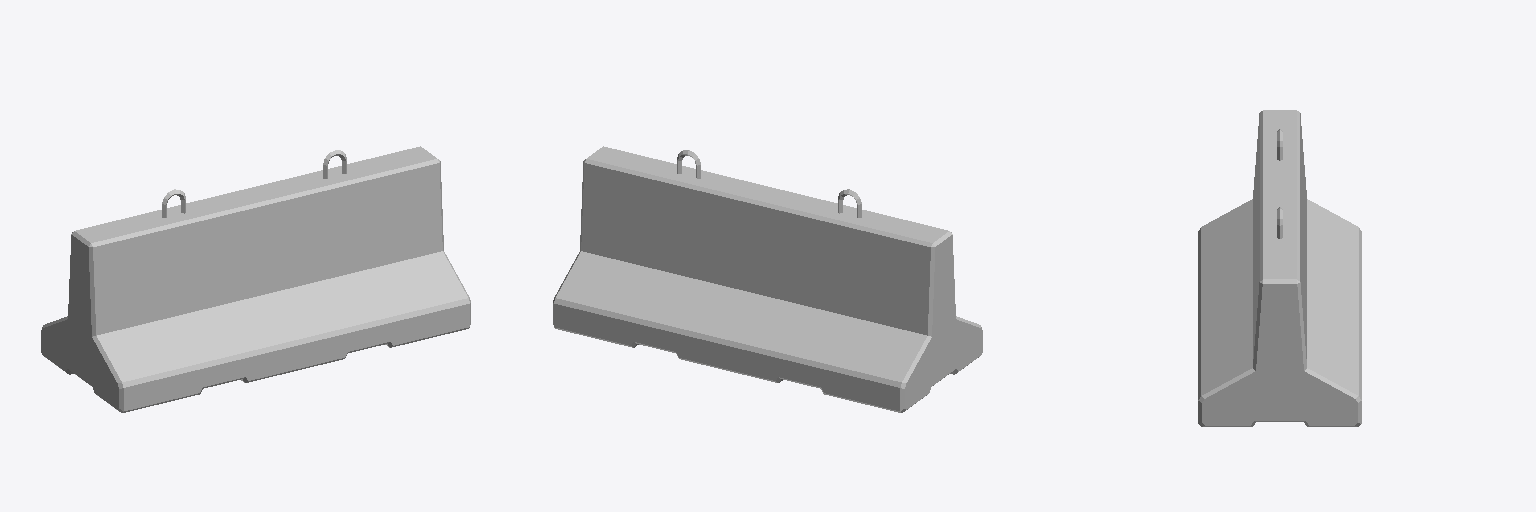
Rendered from barrier.obj.
3 renders of one model, left to right at view 1: azimuth 30°, elevation 25°; view 2: azimuth 150°, elevation 25°; view 3: azimuth 270°, elevation 25°, orthographic.
Visible parts, largest first — view 1: barrier; view 2: barrier; view 3: barrier.
Boxes of the visible parts, x1,y1,x2,y2 form: barrier: [41, 146, 470, 412]; barrier: [553, 146, 982, 412]; barrier: [1198, 110, 1361, 426].
Bounding box in the file's own units: 125 × 58.56 × 50.